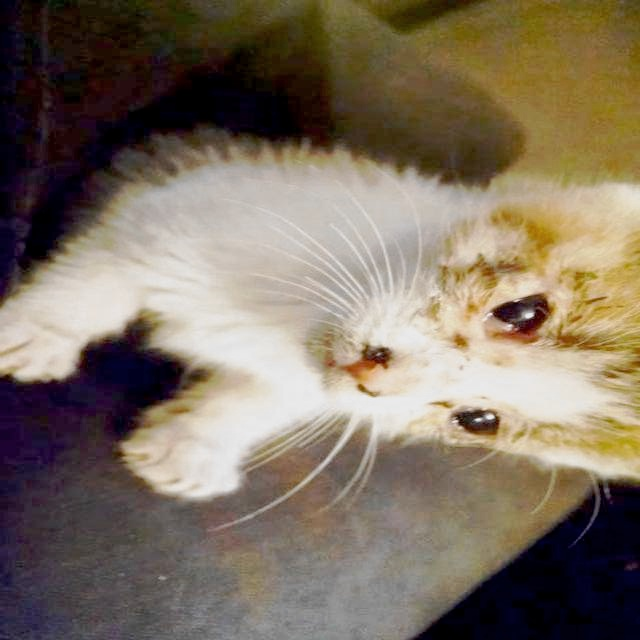eye_infection: (479, 292, 547, 354), (446, 395, 499, 448)
